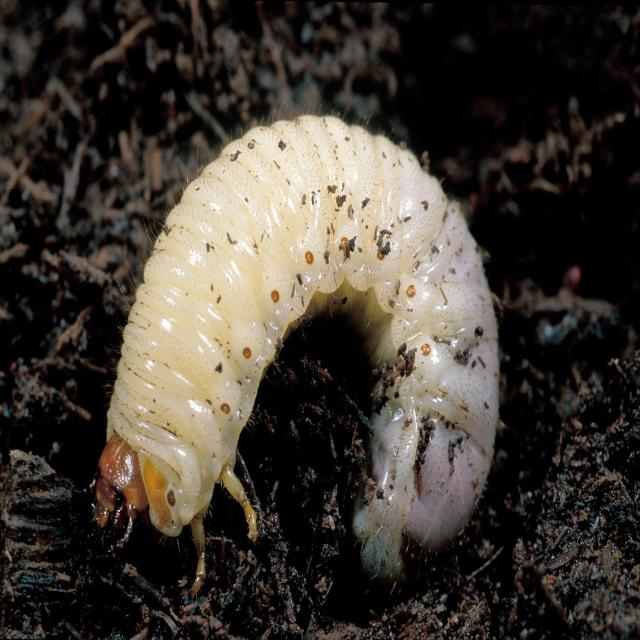Grub-Adult-: (89, 104, 512, 573)
